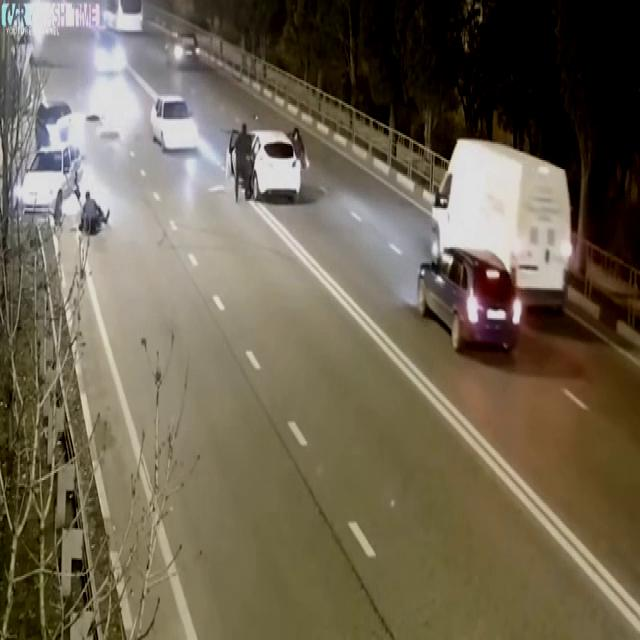accident: (13, 101, 112, 237)
non-accident: (414, 135, 576, 361), (147, 94, 307, 206)
